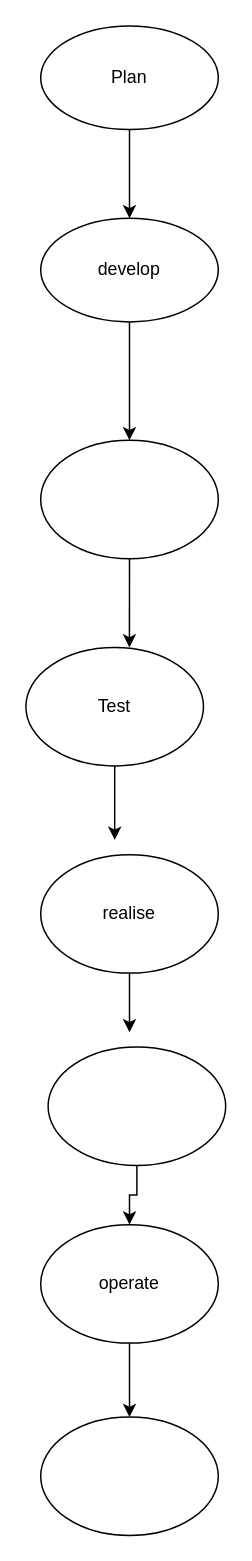
The diagram is 252 pixels wide and 1561 high, and some of its shapes have lost their labels. The box of each missing label's shape, as (x1, y1, x2, y2) in pixels:
bulied: (39, 439, 218, 559)
deploy: (47, 1046, 226, 1166)
